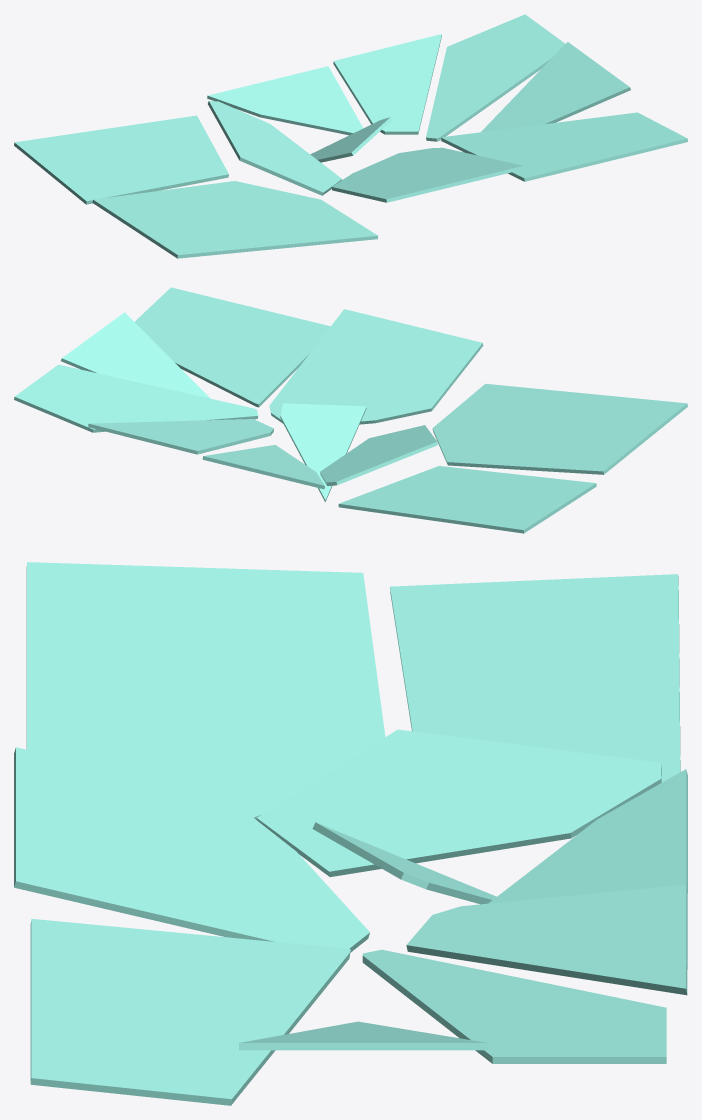
The model's file is animasonsuzBrokenGlass.fbx.
3 views of the same model, one above another, from view 1: azimuth 30°, elevation 25°; view 2: azimuth 150°, elevation 25°; view 3: azimuth 270°, elevation 25° (orthographic). The views are drawn at different scales.
Visible parts, largest first — view 1: Glass_cell.004, Glass_cell.006, Glass_cell.001, Glass_cell.003, Glass_cell, Glass_cell.005, Glass_cell.007, Glass_cell.002, Glass_cell.009, Glass_cell.008; view 2: Glass_cell.004, Glass_cell.007, Glass_cell.001, Glass_cell.006, Glass_cell.003, Glass_cell.005, Glass_cell.008, Glass_cell, Glass_cell.009, Glass_cell.002; view 3: Glass_cell.004, Glass_cell.006, Glass_cell.001, Glass_cell.007, Glass_cell.009, Glass_cell, Glass_cell.003, Glass_cell.002, Glass_cell.005, Glass_cell.008.
Boxes of the visible parts, left/top/right/bottom form: Glass_cell.004: left=92, top=181, right=378, bottom=258; Glass_cell.006: left=14, top=115, right=228, bottom=204; Glass_cell.001: left=441, top=112, right=687, bottom=181; Glass_cell.003: left=426, top=14, right=565, bottom=141; Glass_cell: left=333, top=34, right=441, bottom=134; Glass_cell.005: left=462, top=42, right=630, bottom=152; Glass_cell.007: left=331, top=147, right=524, bottom=202; Glass_cell.002: left=207, top=66, right=363, bottom=135; Glass_cell.009: left=208, top=101, right=342, bottom=195; Glass_cell.008: left=310, top=117, right=391, bottom=162; Glass_cell.004: left=432, top=383, right=687, bottom=474; Glass_cell.007: left=269, top=309, right=483, bottom=424; Glass_cell.001: left=135, top=287, right=330, bottom=407; Glass_cell.006: left=338, top=466, right=596, bottom=533; Glass_cell.003: left=14, top=364, right=258, bottom=432; Glass_cell.005: left=61, top=312, right=210, bottom=398; Glass_cell.008: left=280, top=403, right=366, bottom=501; Glass_cell: left=88, top=419, right=273, bottom=454; Glass_cell.009: left=320, top=425, right=437, bottom=485; Glass_cell.002: left=202, top=445, right=324, bottom=489; Glass_cell.004: left=26, top=562, right=385, bottom=819; Glass_cell.006: left=390, top=574, right=680, bottom=782; Glass_cell.001: left=30, top=918, right=350, bottom=1105; Glass_cell.007: left=14, top=747, right=369, bottom=952; Glass_cell.009: left=256, top=729, right=661, bottom=876; Glass_cell: left=406, top=884, right=687, bottom=995; Glass_cell.003: left=362, top=949, right=666, bottom=1063; Glass_cell.002: left=488, top=769, right=687, bottom=903; Glass_cell.005: left=239, top=1021, right=487, bottom=1050; Glass_cell.008: left=312, top=822, right=496, bottom=904.
Bounding box in the file's own units: 1323 × 176 × 754.
